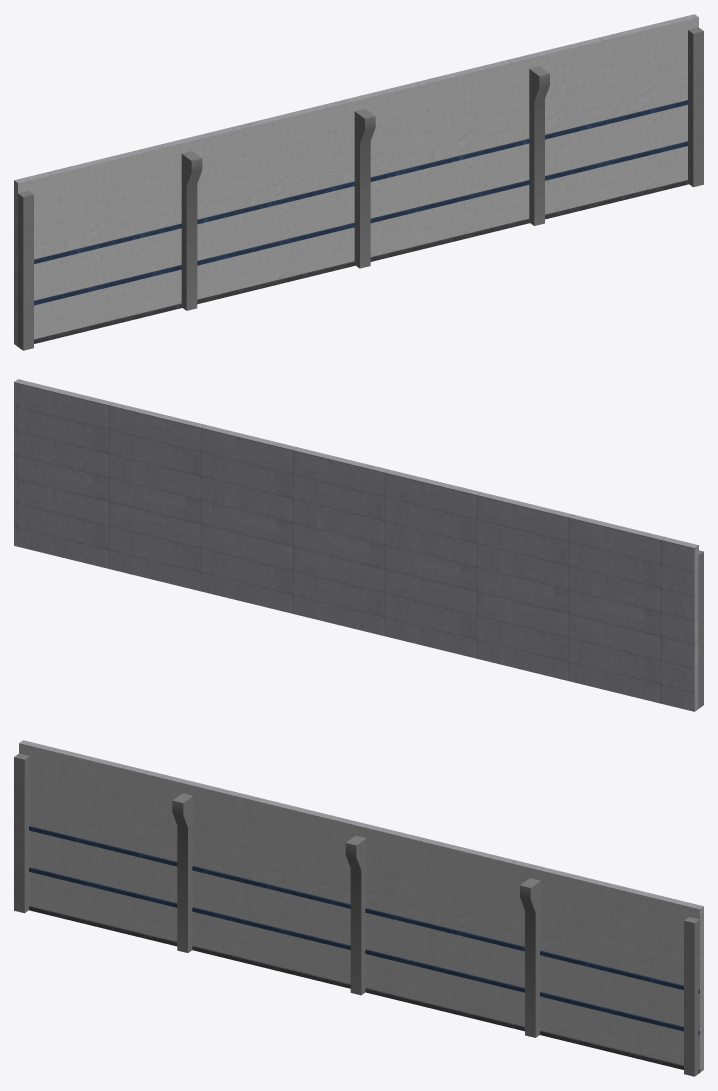
Rendered from WareMedium_Walls.FBX.
3 views of the same model, one above another, from view 1: azimuth 30°, elevation 25°; view 2: azimuth 150°, elevation 25°; view 3: azimuth 330°, elevation 25° (orthographic).
Parts seen in each view (by area): view 1: WareBig_Walls, WareBig_Column, WareBig_W; view 2: WareBig_Walls, WareBig_Column; view 3: WareBig_Walls, WareBig_Column, WareBig_W.
Boxes of the visible parts, left/top/right/bottom form: WareBig_Walls: left=14, top=14, right=698, bottom=346; WareBig_Column: left=18, top=27, right=703, bottom=350; WareBig_W: left=34, top=100, right=688, bottom=305; WareBig_Walls: left=14, top=379, right=698, bottom=711; WareBig_Column: left=698, top=550, right=703, bottom=708; WareBig_Walls: left=19, top=740, right=703, bottom=1073; WareBig_Column: left=14, top=753, right=699, bottom=1076; WareBig_W: left=29, top=826, right=699, bottom=1034.
Bounding box in the file's own units: 1499 × 345 × 54.34.
